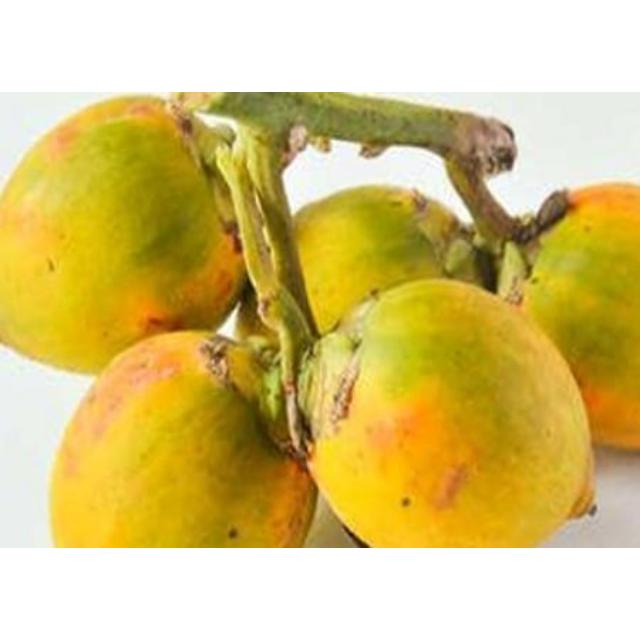good: (48, 123, 597, 547), (0, 92, 249, 378), (521, 182, 639, 455), (293, 187, 455, 335)
